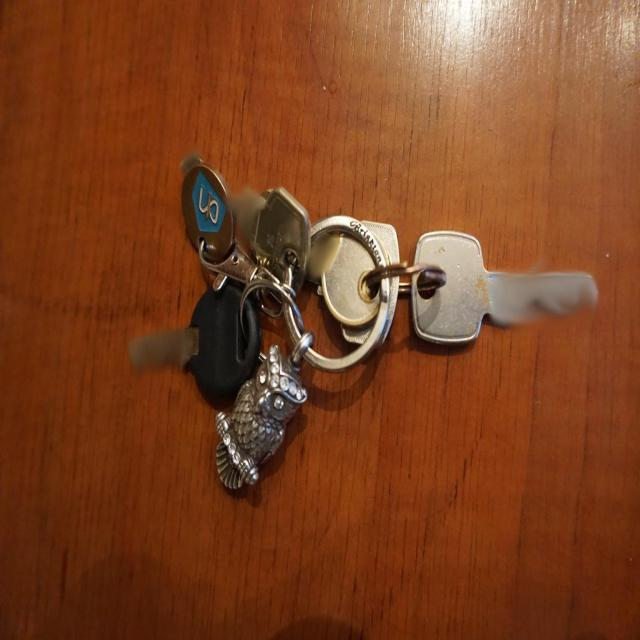Frontdoor keys: (409, 229, 598, 345)
